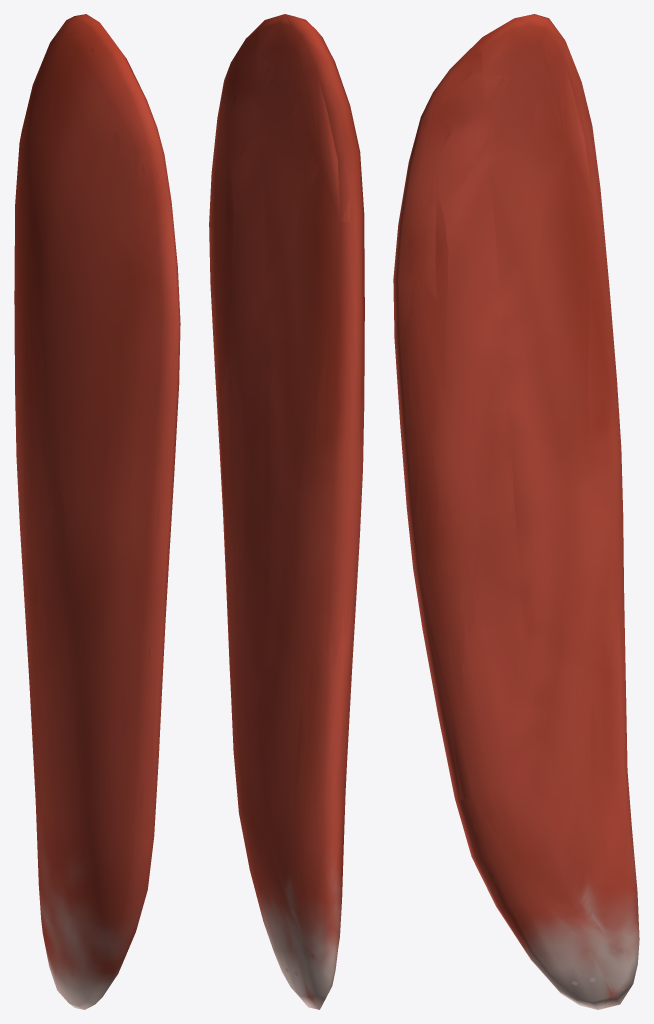
Rendered from R tensor fasciae antebrachii.fbx.
3 views of the same model, side by side, from view 1: azimuth 30°, elevation 25°; view 2: azimuth 210°, elevation 25°; view 3: azimuth 270°, elevation 25° (orthographic). The views are drawn at different scales.
Parts seen in each view (by area): view 1: R tensor fasciae antebrachii, R tensor fasciae antebrachii high, R tensor fasciae antebrachii low; view 2: R tensor fasciae antebrachii, R tensor fasciae antebrachii low, R tensor fasciae antebrachii high; view 3: R tensor fasciae antebrachii, R tensor fasciae antebrachii low, R tensor fasciae antebrachii high.
Boxes of the visible parts, x1,y1,x2,y2 form: R tensor fasciae antebrachii: [14, 14, 180, 1009]; R tensor fasciae antebrachii high: [19, 26, 177, 997]; R tensor fasciae antebrachii low: [25, 15, 162, 991]; R tensor fasciae antebrachii: [209, 14, 364, 1009]; R tensor fasciae antebrachii low: [209, 14, 363, 1006]; R tensor fasciae antebrachii high: [212, 34, 362, 1002]; R tensor fasciae antebrachii: [393, 14, 639, 1009]; R tensor fasciae antebrachii low: [399, 14, 634, 1009]; R tensor fasciae antebrachii high: [398, 33, 632, 1003].
Size of the model in its own units: 1.46 by 15.71 by 3.56.
